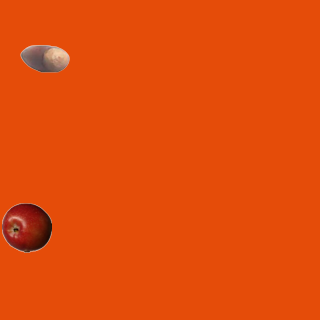Apple Braeburn: (1, 202, 51, 252)
Hazelnut: (19, 33, 69, 83)
